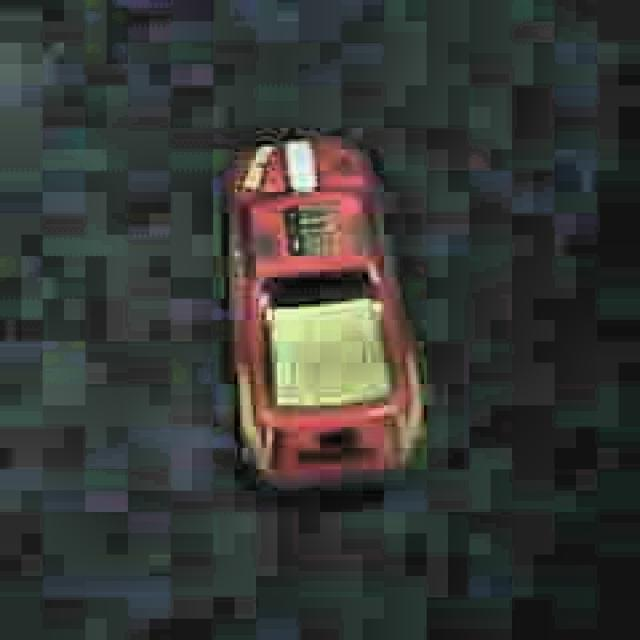car: (215, 128, 434, 502)
